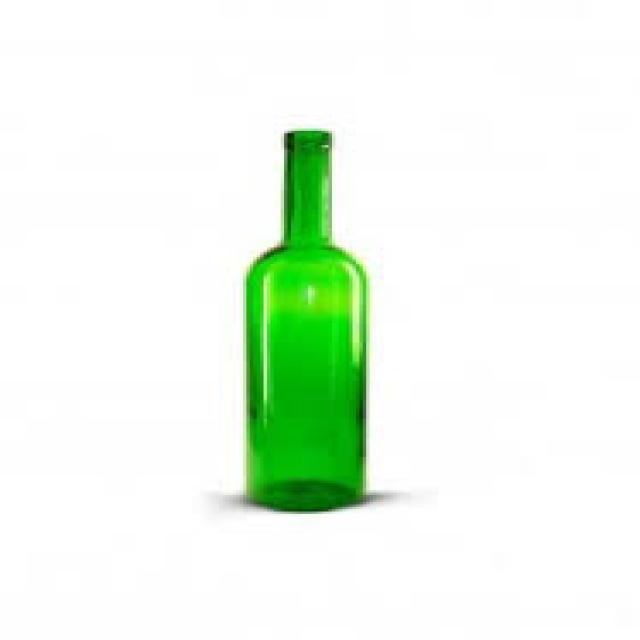glass: (240, 129, 360, 509)
